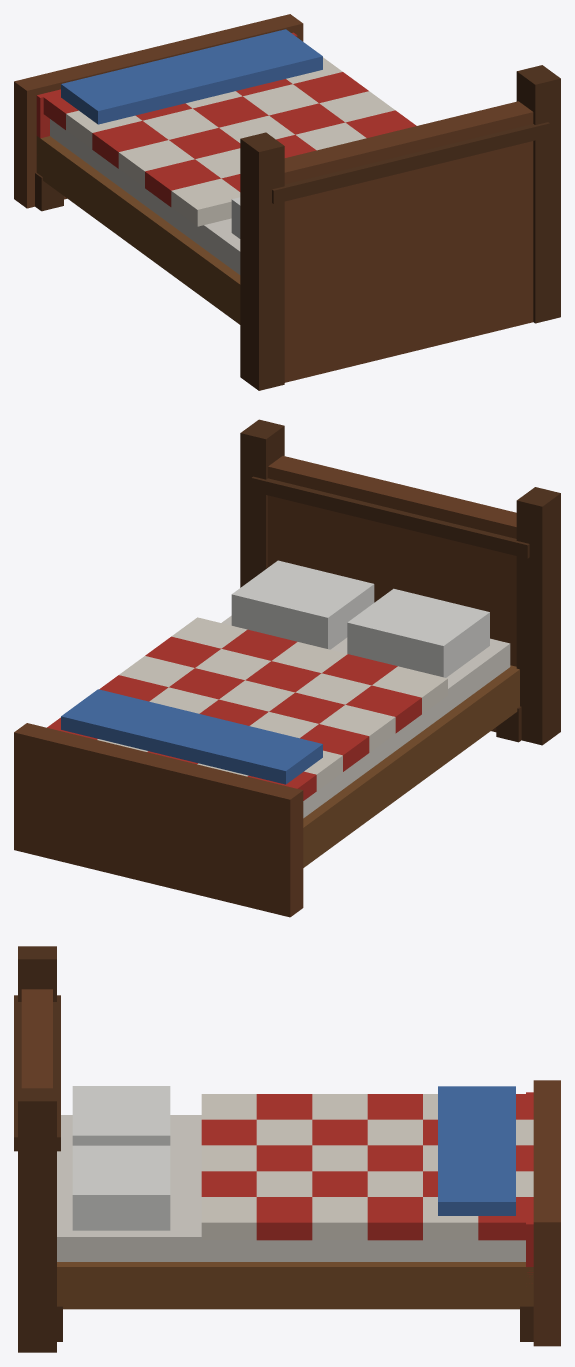
The model's file is xma-bed.glb.
3 renders of one model, top to bottom at view 1: azimuth 30°, elevation 25°; view 2: azimuth 150°, elevation 25°; view 3: azimuth 270°, elevation 25°, orthographic. The views are drawn at different scales.
Visible parts, largest first — view 1: box-prop; view 2: box-prop; view 3: box-prop.
Boxes of the visible parts, x1,y1,x2,y2 form: box-prop: (14, 14, 560, 390); box-prop: (14, 419, 560, 917); box-prop: (14, 946, 560, 1352).
Size of the model in its own units: 1.88 by 1.42 by 2.8.
